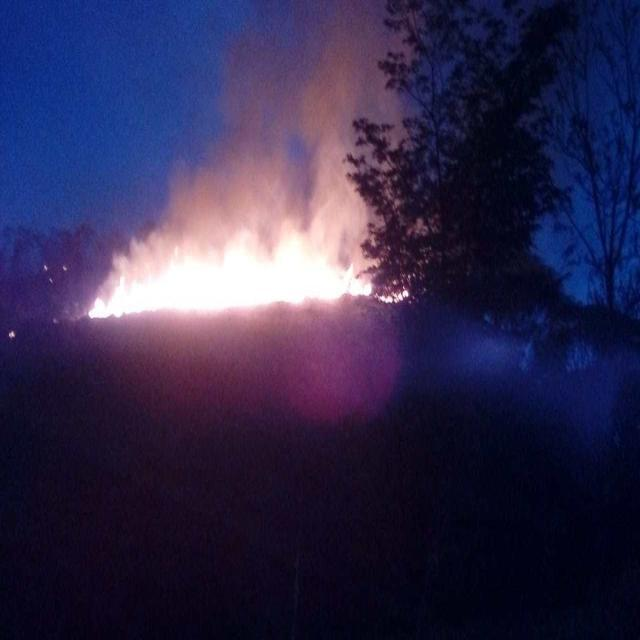Fire: (87, 245, 214, 318), (214, 229, 322, 306), (322, 255, 376, 299), (378, 289, 410, 306)
Smoke: (150, 0, 310, 239), (310, 0, 368, 255), (368, 80, 404, 124), (365, 0, 384, 76)
